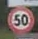limite 50: (6, 4, 34, 34)
